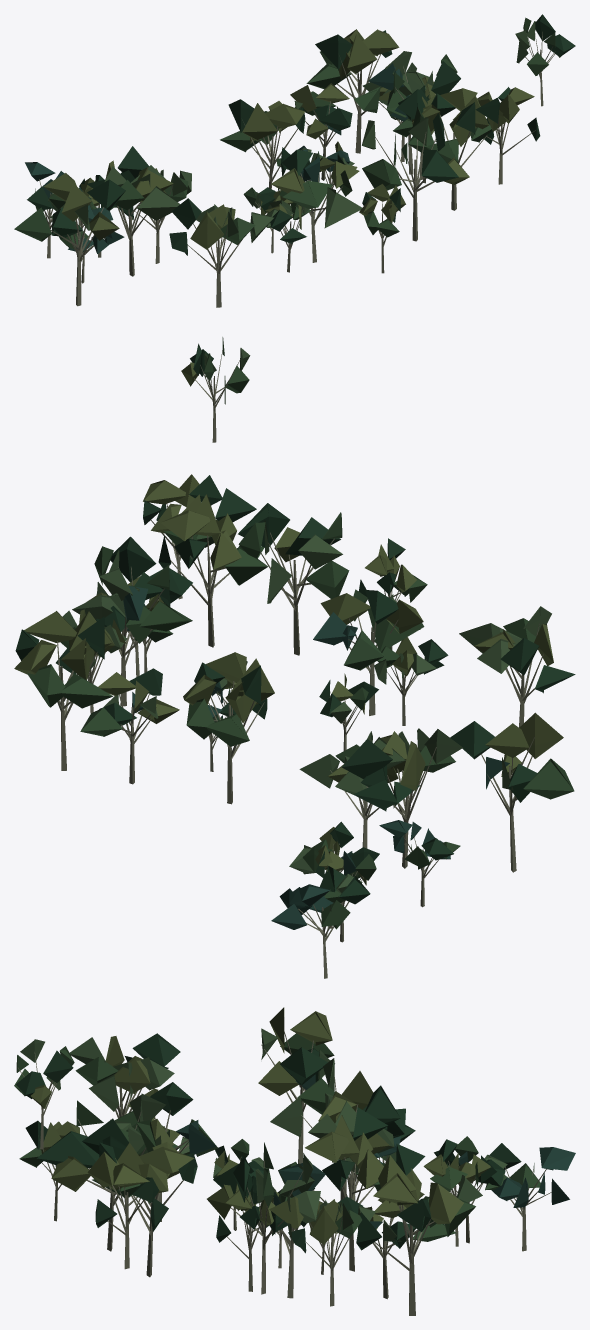
The model's file is forest_17_25.dae.
3 views of the same model, one above another, from view 1: azimuth 30°, elevation 25°; view 2: azimuth 150°, elevation 25°; view 3: azimuth 270°, elevation 25° (orthographic). The views are drawn at different scales.
Parts seen in each view (by area): view 1: Node; view 2: Node; view 3: Node.
Boxes of the visible parts, x1,y1,x2,y2 form: Node: (14,14,575,307); Node: (14,337,575,978); Node: (14,1007,575,1315).
Bounding box in the file's own units: 11.95 × 10.94 × 8.08.
